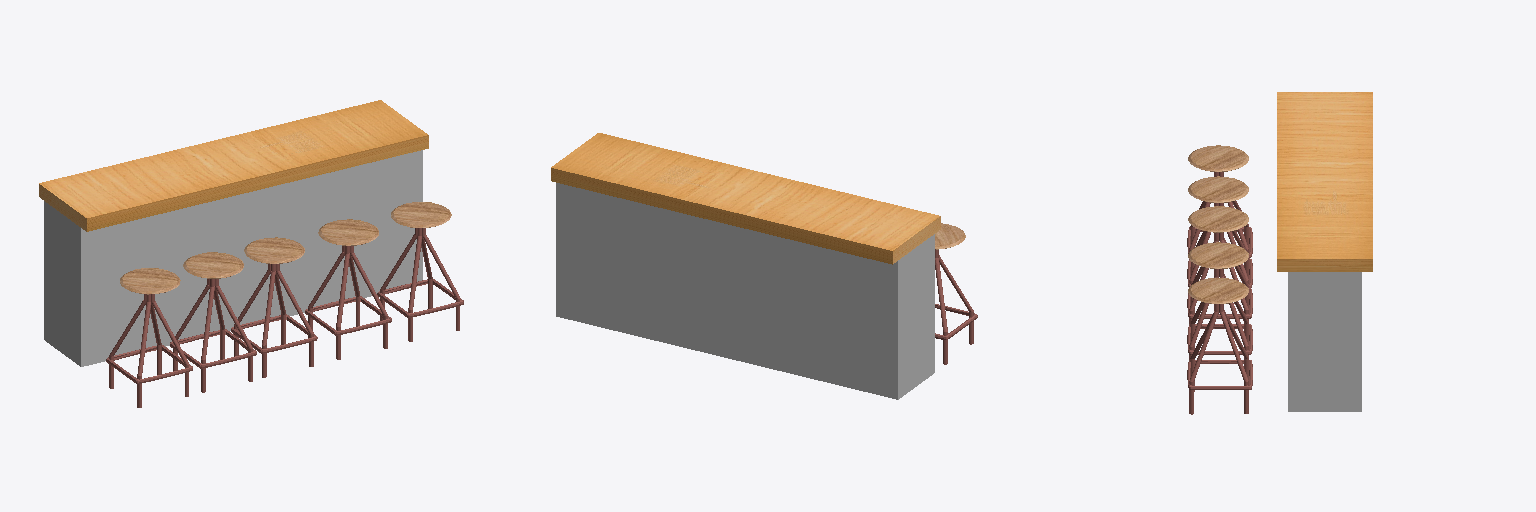
3 renders of one model, left to right at view 1: azimuth 30°, elevation 25°; view 2: azimuth 150°, elevation 25°; view 3: azimuth 270°, elevation 25°, orthographic.
Parts seen in each view (by area): view 1: barra; view 2: barra; view 3: barra.
Boxes of the visible parts, box(x1,y1,x2,y2) form: barra: box(39, 100, 463, 407); barra: box(551, 133, 977, 399); barra: box(1187, 92, 1372, 414).
Bounding box in the file's own units: 18.28 × 8.22 × 8.58.
Materials: 4 (3 with a texture image).